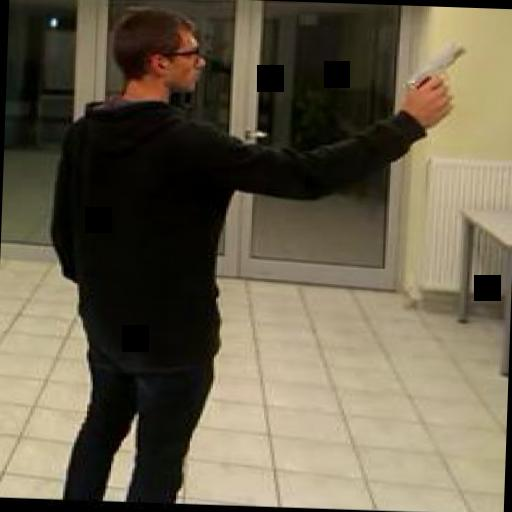Handgun: (402, 38, 468, 109)
